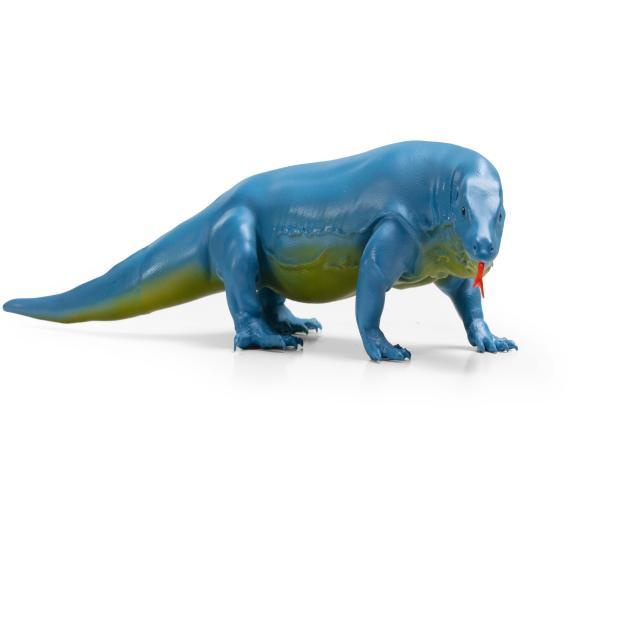hard-toy: (6, 144, 515, 361)
